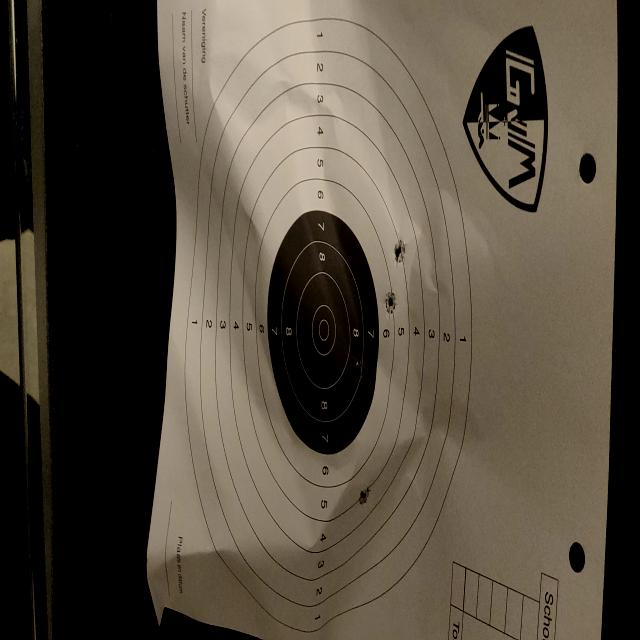5: (394, 238, 406, 264), (358, 486, 370, 506)
6: (385, 288, 397, 317)
8: (353, 355, 364, 380)
Target: (184, 18, 471, 628)
black_contour: (267, 210, 379, 455)
